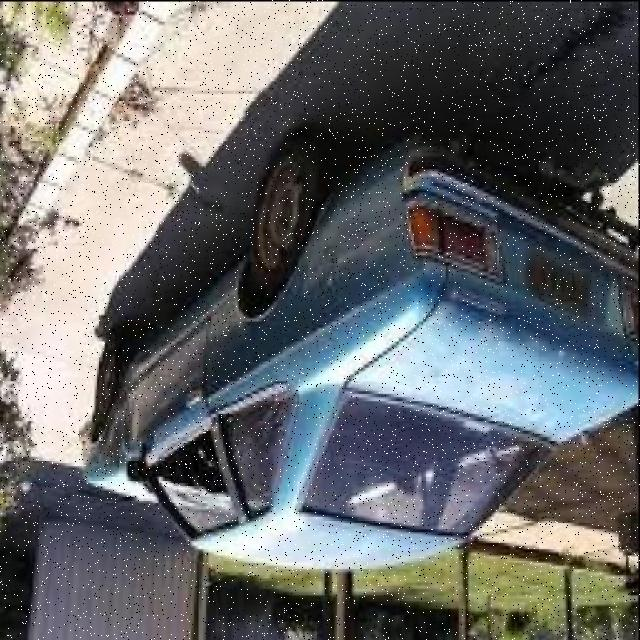damage: (98, 373, 141, 464)
